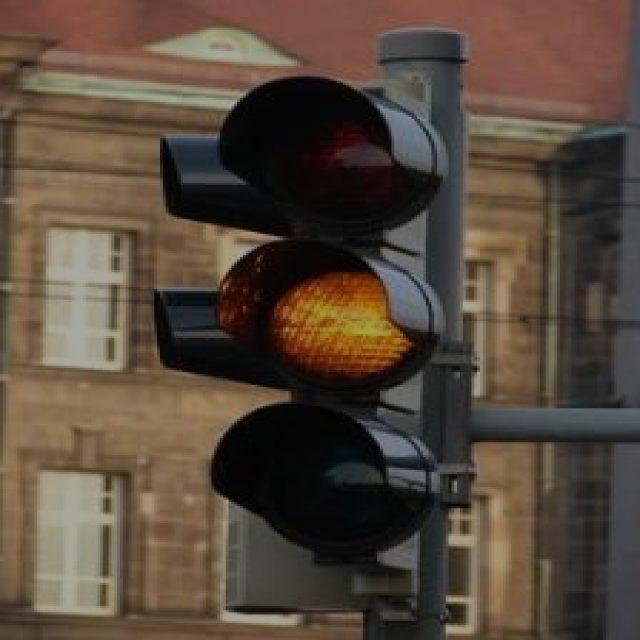Yellow: (219, 100, 437, 551)
